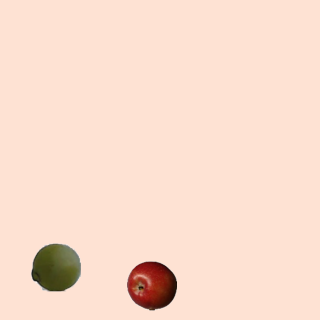Apple Braeburn: (126, 260, 176, 310)
Grape White 4: (30, 241, 80, 291)
